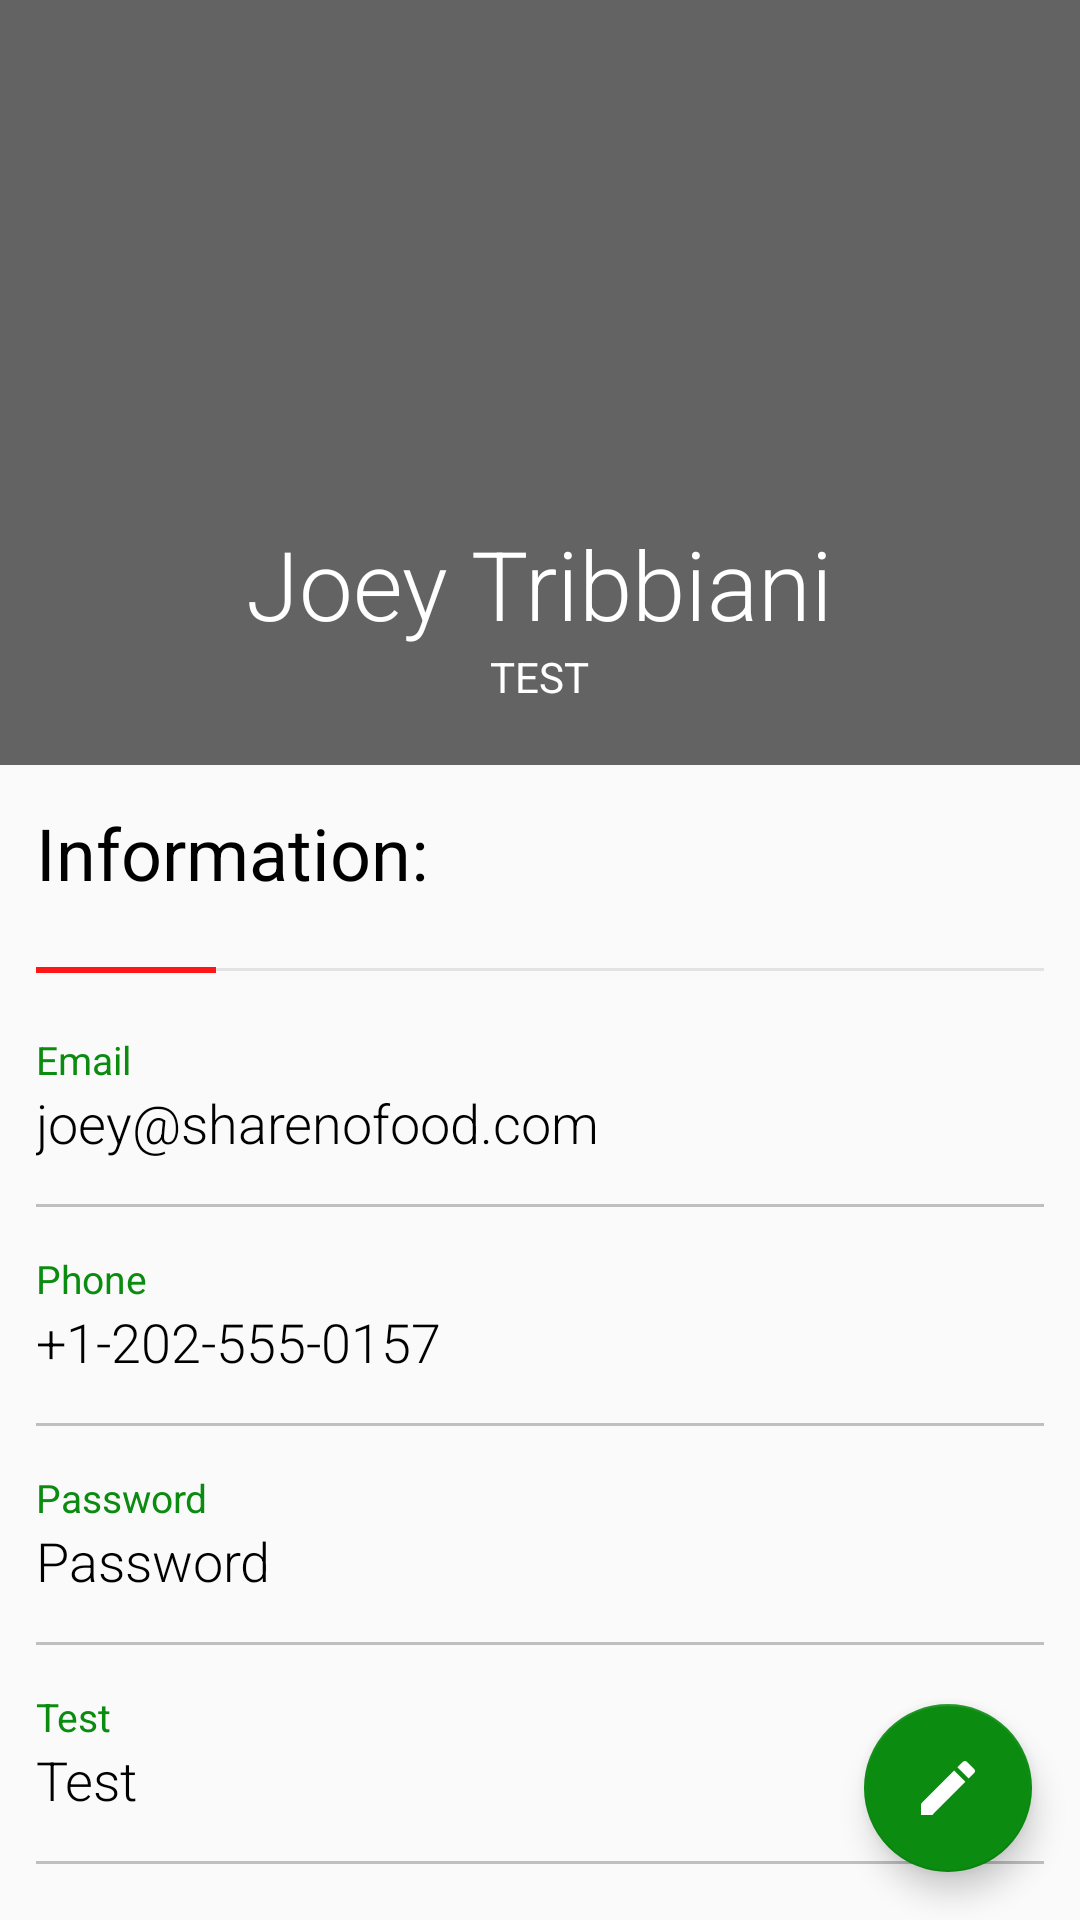

Icon bounding boxes for this 1080*1920 phone screenshot, format (x1, y1, x2, y2):
edit: (864, 1704, 1032, 1872)
